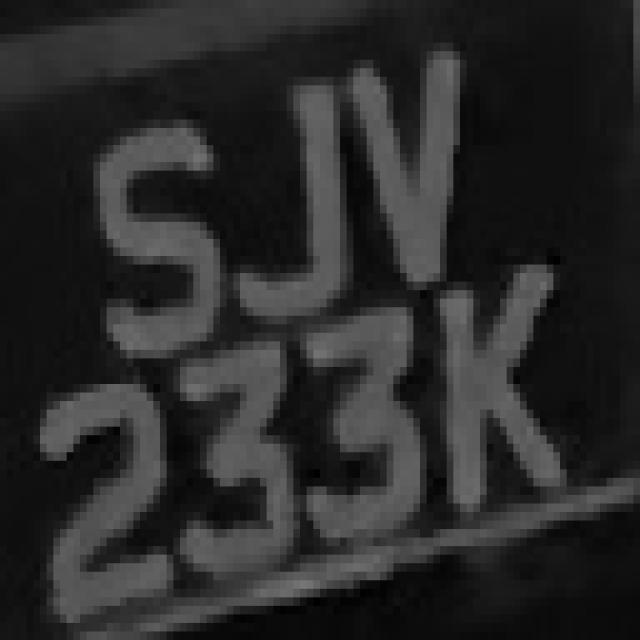2: (20, 384, 180, 631)
3: (294, 282, 434, 554), (160, 324, 293, 580)
J: (207, 68, 360, 316)
K: (440, 256, 593, 529)
S: (60, 111, 233, 358)
V: (340, 26, 500, 264)
